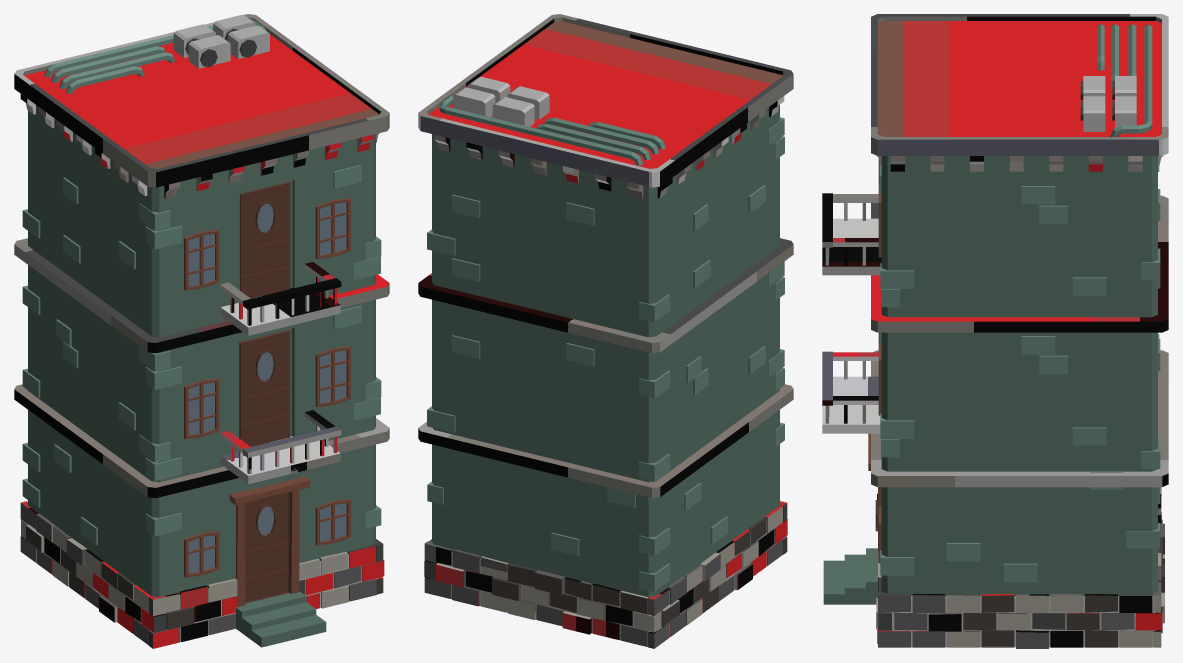
Rendered from quaternius-ultimate-textured-building-3-story-balcony-mat.glb.
3 views of the same model, side by side, from view 1: azimuth 30°, elevation 25°; view 2: azimuth 150°, elevation 25°; view 3: azimuth 270°, elevation 25° (orthographic). The views are drawn at different scales.
Visible parts, largest first — view 1: 3Story_Balcony_Mat; view 2: 3Story_Balcony_Mat; view 3: 3Story_Balcony_Mat.
Boxes of the visible parts, x1,y1,x2,y2 form: 3Story_Balcony_Mat: (14,14,389,648); 3Story_Balcony_Mat: (418,14,793,648); 3Story_Balcony_Mat: (822,14,1168,648).
Bounding box in the file's own units: 2.16 × 4.21 × 2.51.
3 materials, 3 textured.
